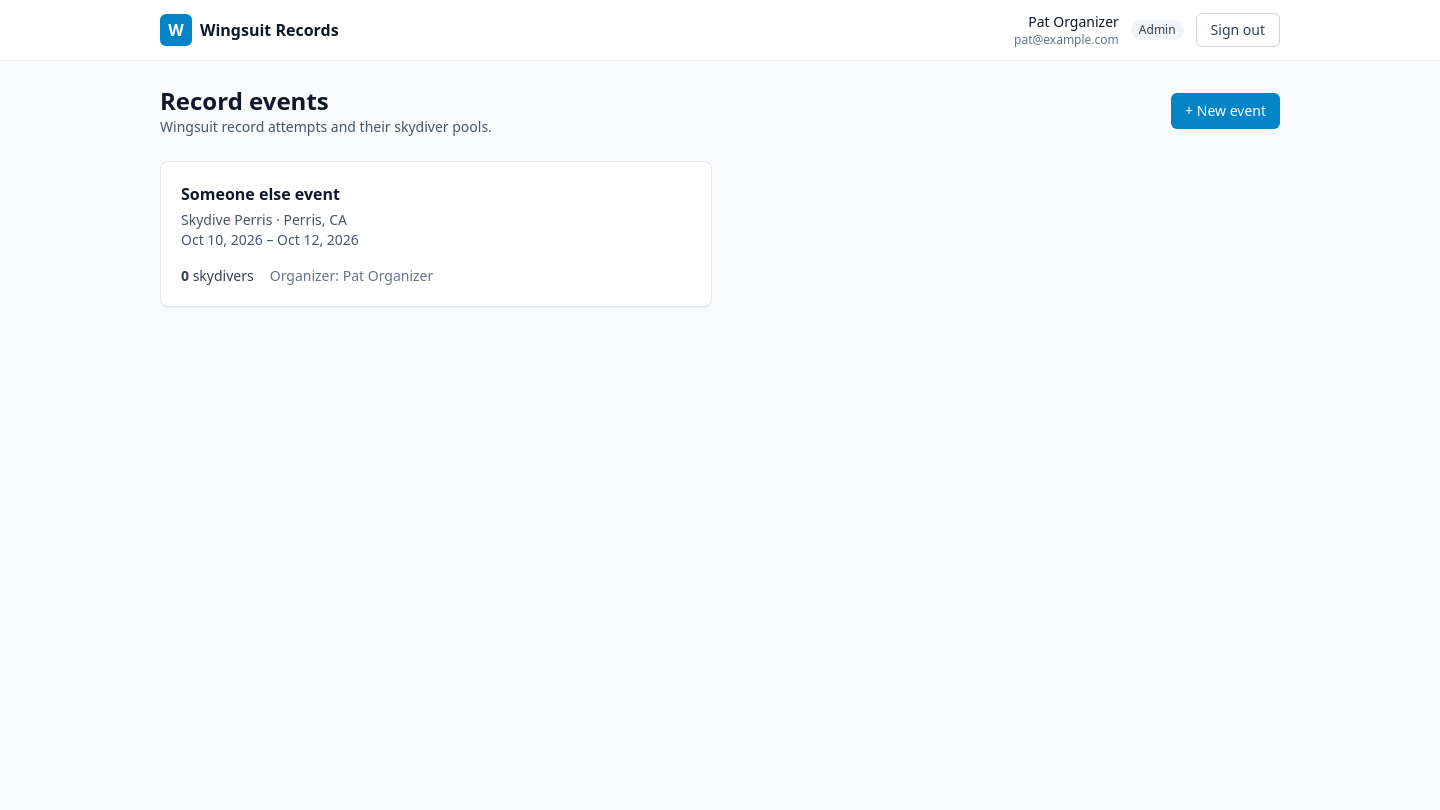
App › admins can manage other organizers' events; only your own get the Yours badge
This screenshot has width=1440, height=810.
Click the link "Someone else event" at (260,194), box [160, 161, 712, 307]
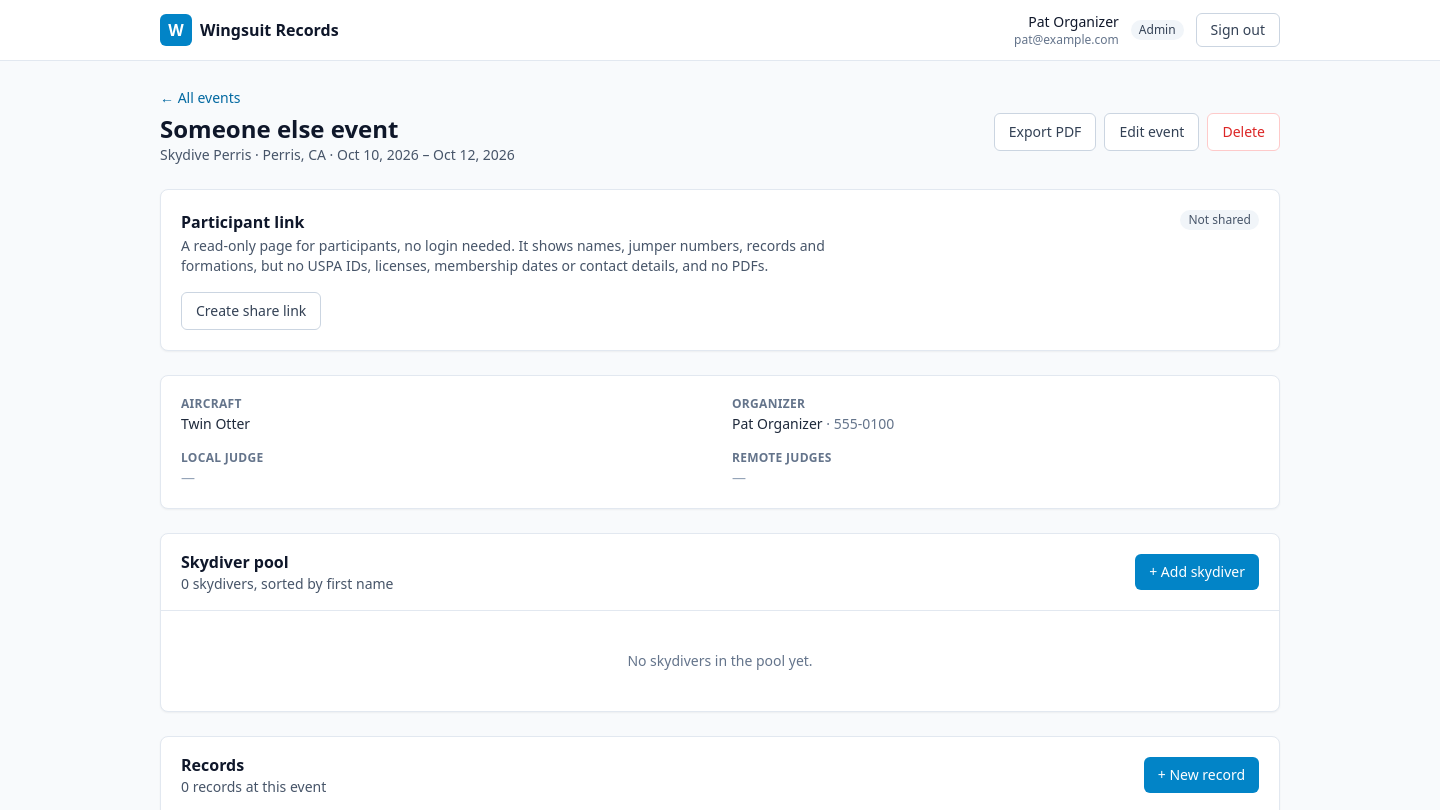
Check: the button "Delete" is shown, box [1207, 113, 1280, 151]
Check: the link "Edit event" is shown, box [1104, 113, 1199, 151]
